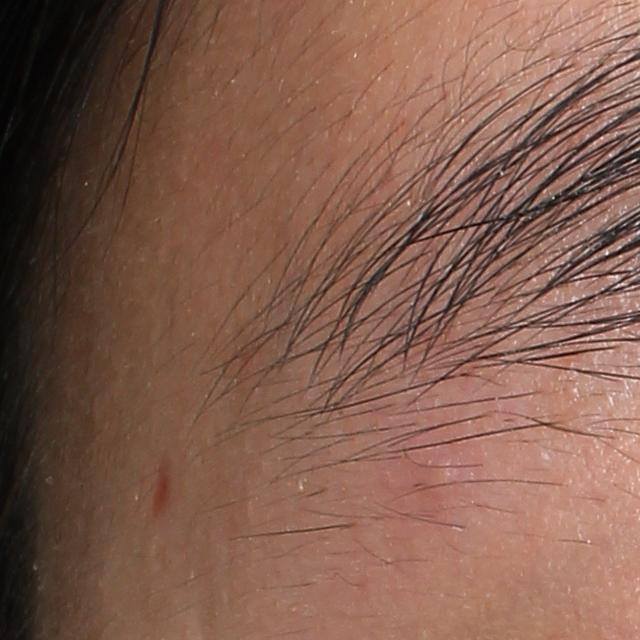atrophic_scar: (148, 453, 176, 519)
